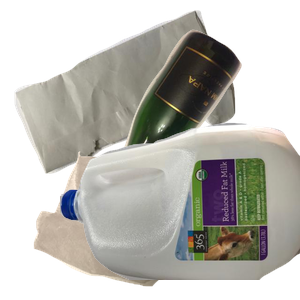glass: (87, 27, 300, 207)
paper: (12, 10, 240, 176)
plastic: (60, 120, 300, 300)
trash: (31, 149, 268, 300)
